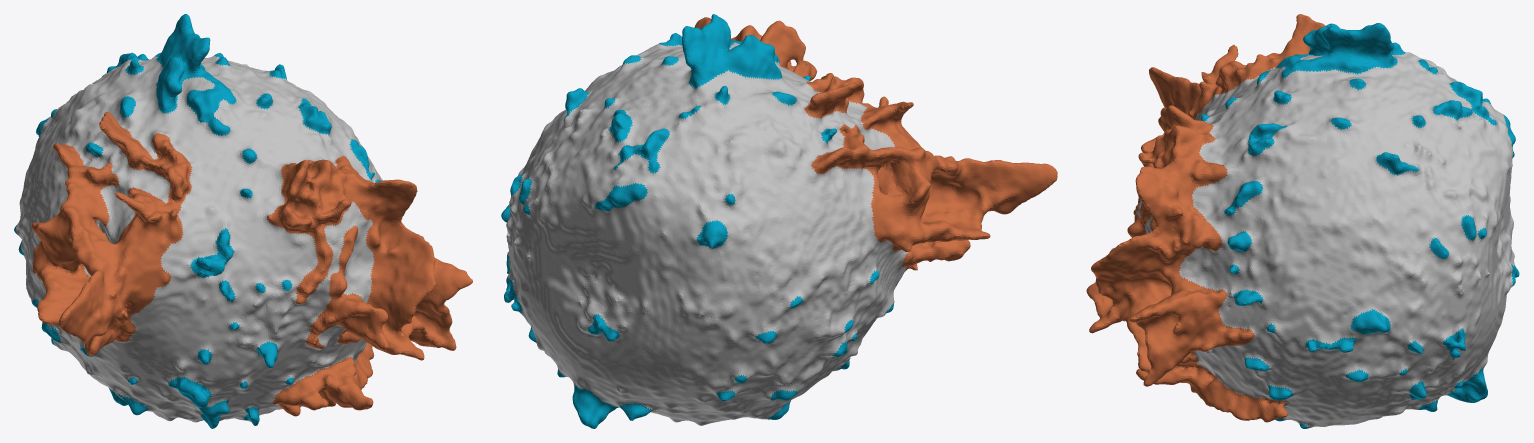
3 views of the same model, side by side, from view 1: azimuth 30°, elevation 25°; view 2: azimuth 150°, elevation 25°; view 3: azimuth 270°, elevation 25° (orthographic). The views are drawn at different scales.
Bounding box in the file's own units: 186 × 164 × 168.
